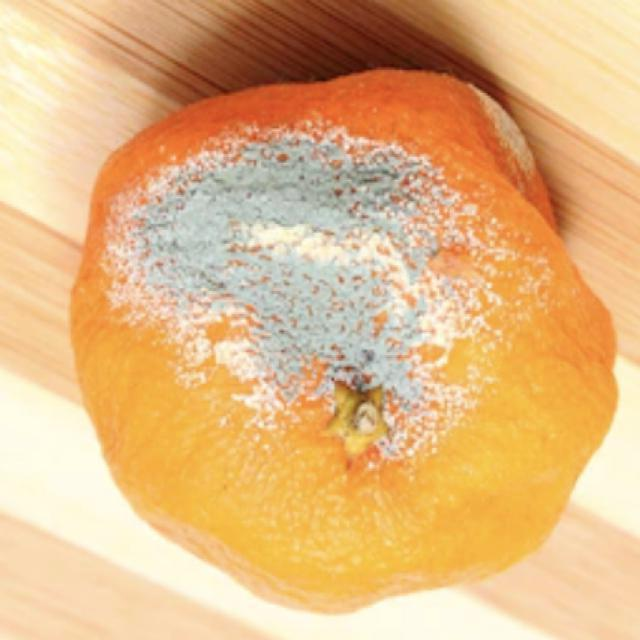rotten orange: (67, 65, 620, 615)
